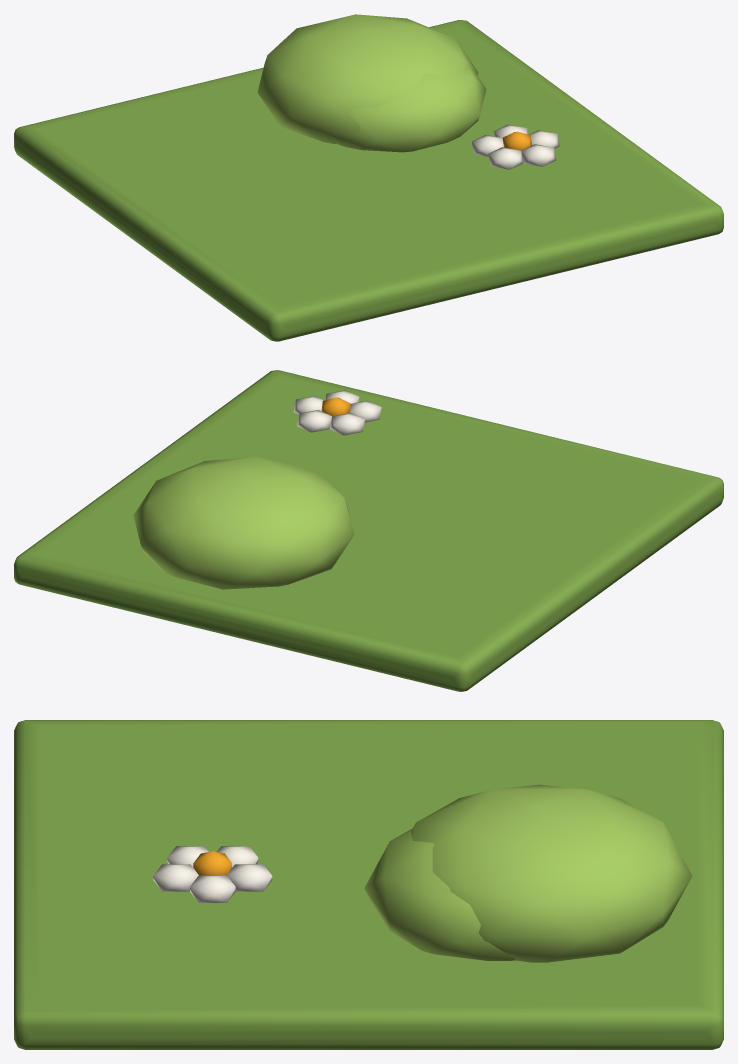
Rendered from rim_corner.glb.
3 views of the same model, one above another, from view 1: azimuth 30°, elevation 25°; view 2: azimuth 150°, elevation 25°; view 3: azimuth 270°, elevation 25° (orthographic). The views are drawn at different scales.
Visible parts, largest first — view 1: Rim_Corner; view 2: Rim_Corner; view 3: Rim_Corner.
Boxes of the visible parts, box(x1,y1,x2,y2) form: Rim_Corner: box(14, 14, 723, 341); Rim_Corner: box(14, 370, 723, 691); Rim_Corner: box(14, 720, 723, 1049).
Size of the model in its own units: 0.5 by 0.1077 by 0.5.
